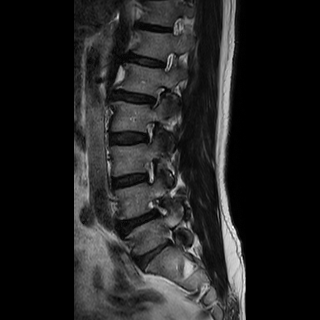RFS0: (143, 193, 173, 221), (138, 155, 163, 188), (140, 114, 160, 150)
